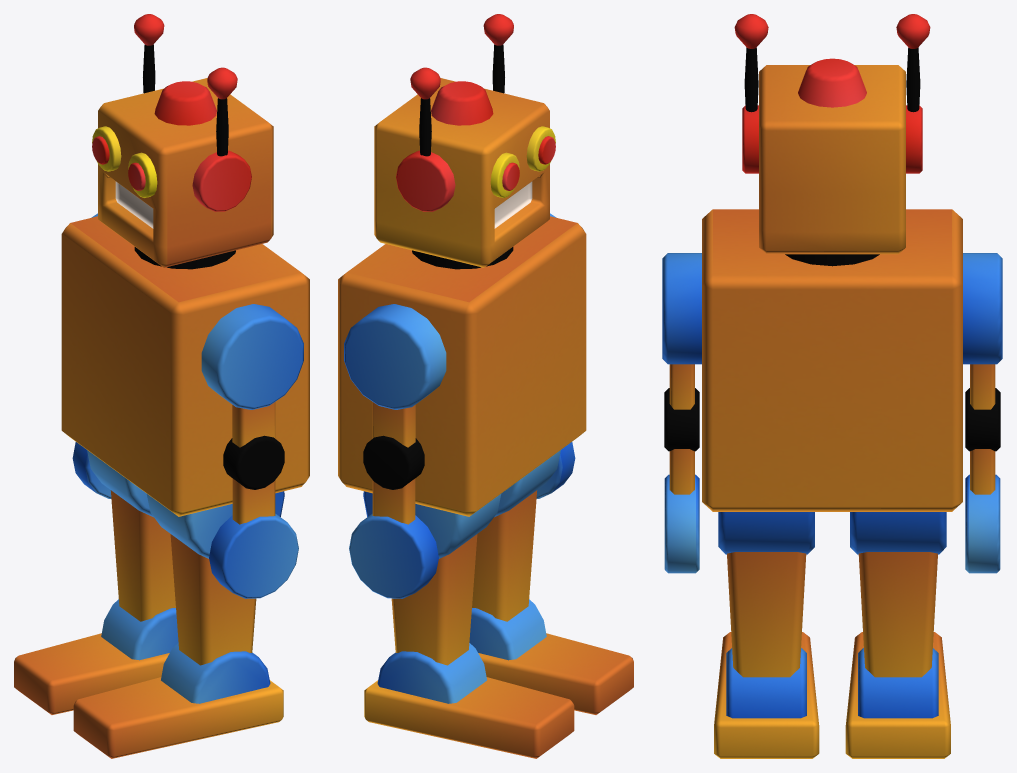
Rendered from Robot_DetachedParts.fbx.
3 views of the same model, side by side, from view 1: azimuth 30°, elevation 25°; view 2: azimuth 150°, elevation 25°; view 3: azimuth 270°, elevation 25° (orthographic). The views are drawn at different scales.
Parts seen in each view (by area): view 1: Cube.043, Cube.041, Cube.051, Cube.050, Cylinder.048, Cylinder.052, Cylinder.050, Cylinder.051, Cylinder.046, Cylinder.053, Cylinder.049, Cylinder.045 (+4 smaller); view 2: Cube.043, Cube.041, Cube.051, Cube.050, Cylinder.048, Cylinder.052, Cylinder.050, Cylinder.051, Cylinder.046, Cylinder.053, Cylinder.049, Cylinder.045 (+4 smaller); view 3: Cube.043, Cube.041, Cube.050, Cube.051, Cylinder.048, Cylinder.051, Cylinder.052, Cylinder.050, Cylinder.053, Cylinder.049, Cylinder.045, Cube.047 (+3 smaller).
Part boxes in pixels (x1,y1,x2,y2): Cube.043: (61,216,309,516); Cube.041: (98,78,273,267); Cube.051: (14,633,283,758); Cube.050: (110,490,256,665); Cylinder.048: (91,213,303,409); Cylinder.052: (101,599,270,703); Cylinder.050: (72,442,298,598); Cylinder.051: (87,450,284,558); Cylinder.046: (192,150,251,211); Cylinder.053: (134,14,237,156); Cylinder.049: (223,435,284,489); Cylinder.045: (154,81,216,125); Cube.043: (338,216,586,516); Cube.041: (374,78,549,267); Cube.051: (364,633,633,758); Cube.050: (391,490,537,665); Cylinder.048: (344,213,556,409); Cylinder.052: (377,599,546,703); Cylinder.050: (349,442,575,598); Cylinder.051: (363,450,560,558); Cylinder.046: (396,150,455,211); Cylinder.053: (410,14,513,156); Cylinder.049: (363,435,424,489); Cylinder.045: (431,81,493,125); Cube.043: (702,209,962,511); Cube.041: (759,65,905,254); Cube.050: (727,552,937,677); Cube.051: (714,632,950,758); Cylinder.048: (662,253,1002,364); Cylinder.051: (718,512,946,554); Cylinder.052: (726,648,938,718); Cylinder.050: (664,474,1000,573); Cylinder.053: (734,14,930,112); Cylinder.049: (664,388,1000,451); Cylinder.045: (798,58,866,107); Cube.047: (669,364,995,409).
Bounding box in the file's own units: 89.17 × 285 × 122.
